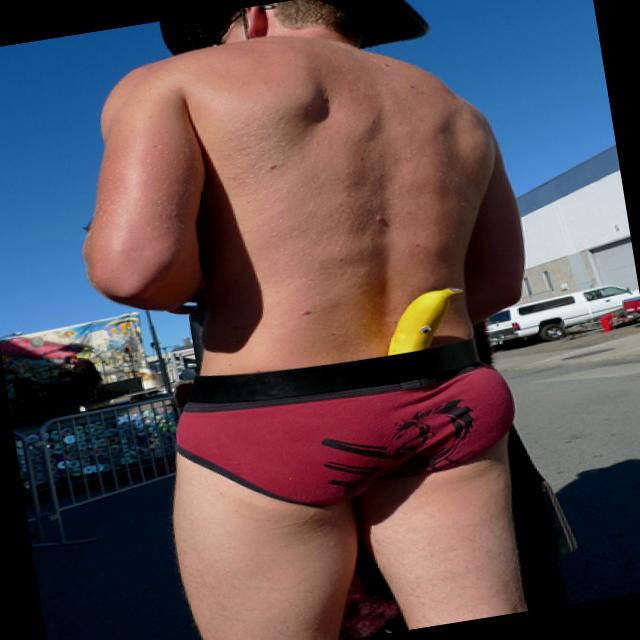Vehicle: (479, 279, 640, 349)
